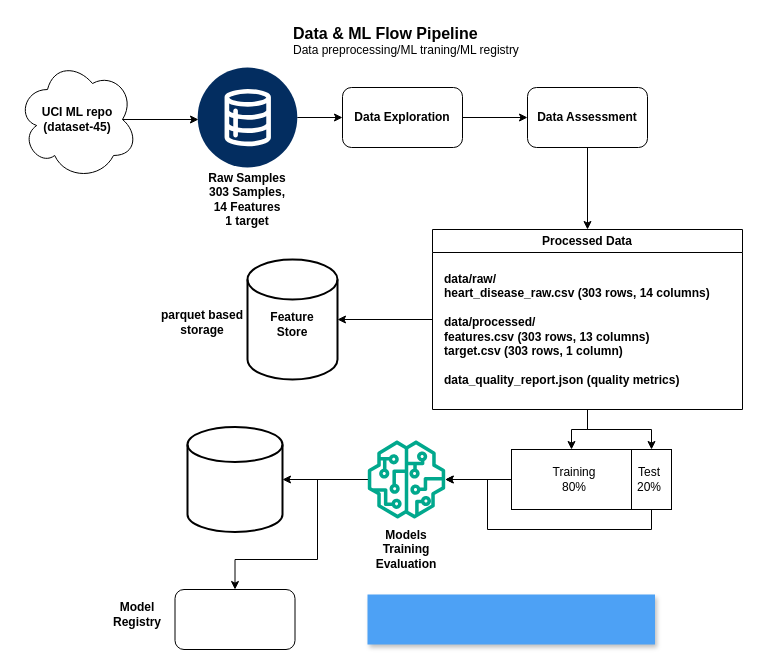
This 760x668 diagram has some shape labels left out. Each missing label, with the centre of its shape:
MLflow Server (Railway.app): the point at 234,619
MLops Assignment (Group-75) Date: 06/01/2026: the point at 511,620
models/ local storage: the point at 234,479
